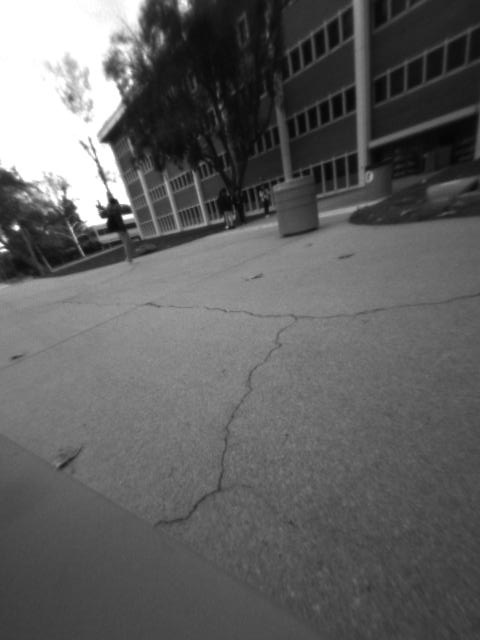trashcan: (270, 170, 320, 242), (360, 162, 397, 207)
